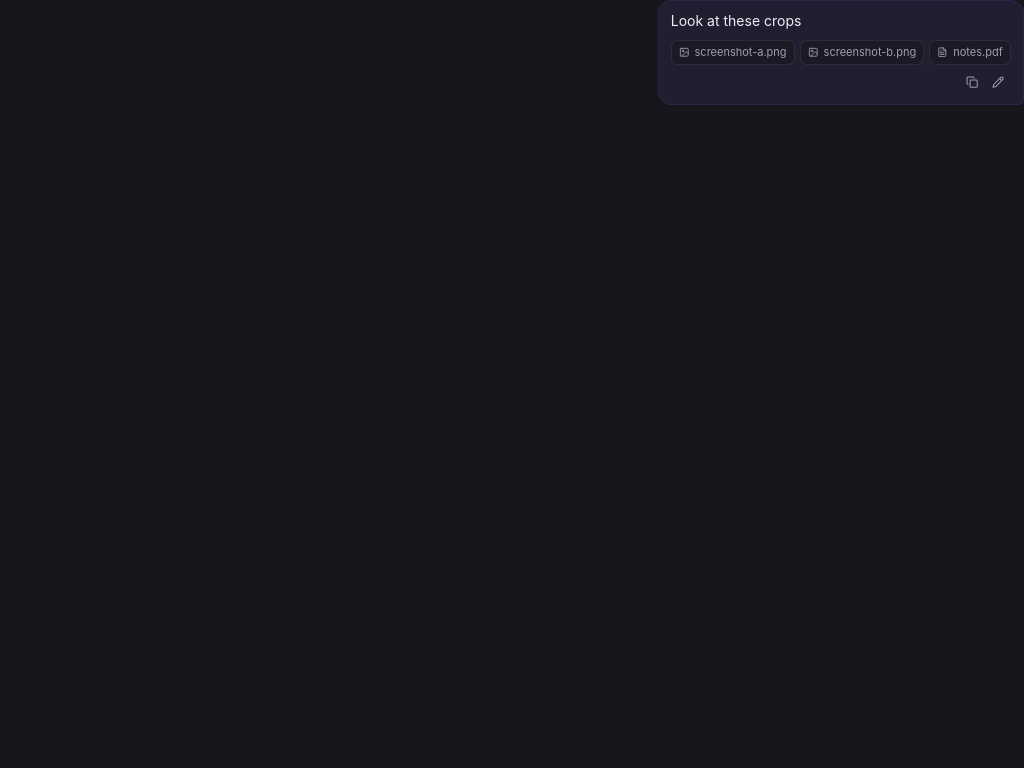
Test: ChatMessage copy actions › opens a lightbox preview when a history image chip is clicked
Expected: the text "screenshot-a.png" is shown, [694,44,787,60]
Click the button titled "screenshot-a.png". click: {"x": 733, "y": 52}
box: [671,40,795,65]
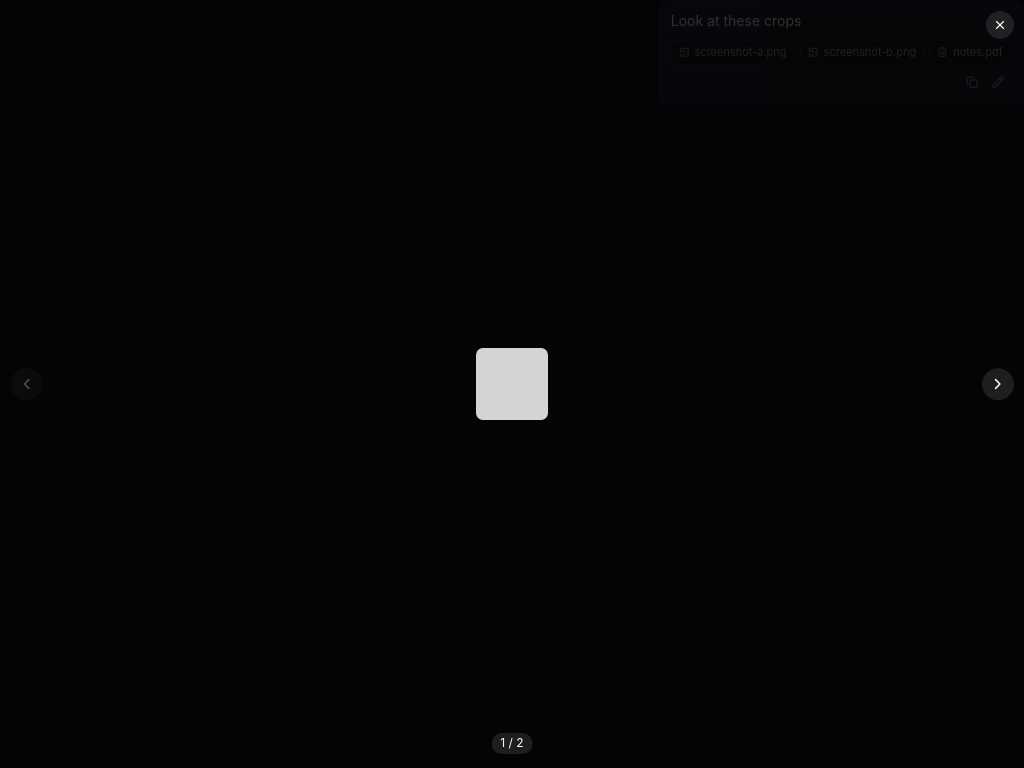
Now the text with test id "gallery-counter" reads "1 / 2", box [500,735,524,750]
Click the button with test id "gallery-next". click: {"x": 998, "y": 384}
box: [982,368,1014,400]
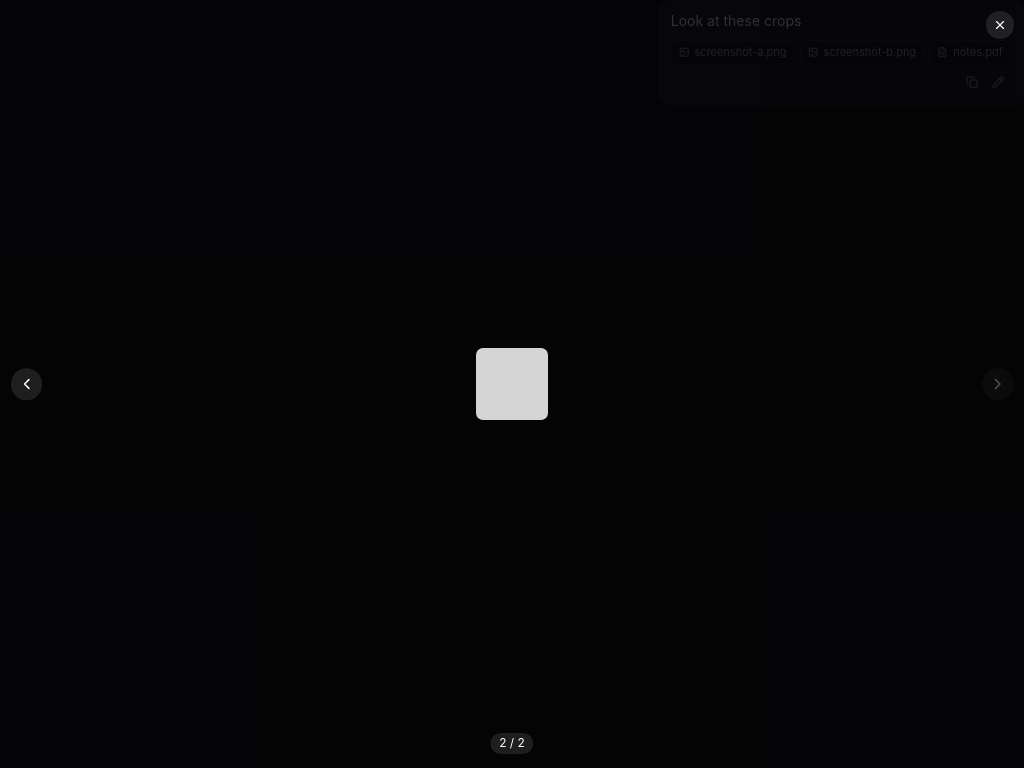
Now the text with test id "gallery-counter" reads "2 / 2", box [499,735,525,750]
Now the button with test id "gallery-next" is disabled, box [982,368,1014,400]
Click the button with test id "gallery-prev". click: {"x": 26, "y": 384}
box: [10,368,42,400]
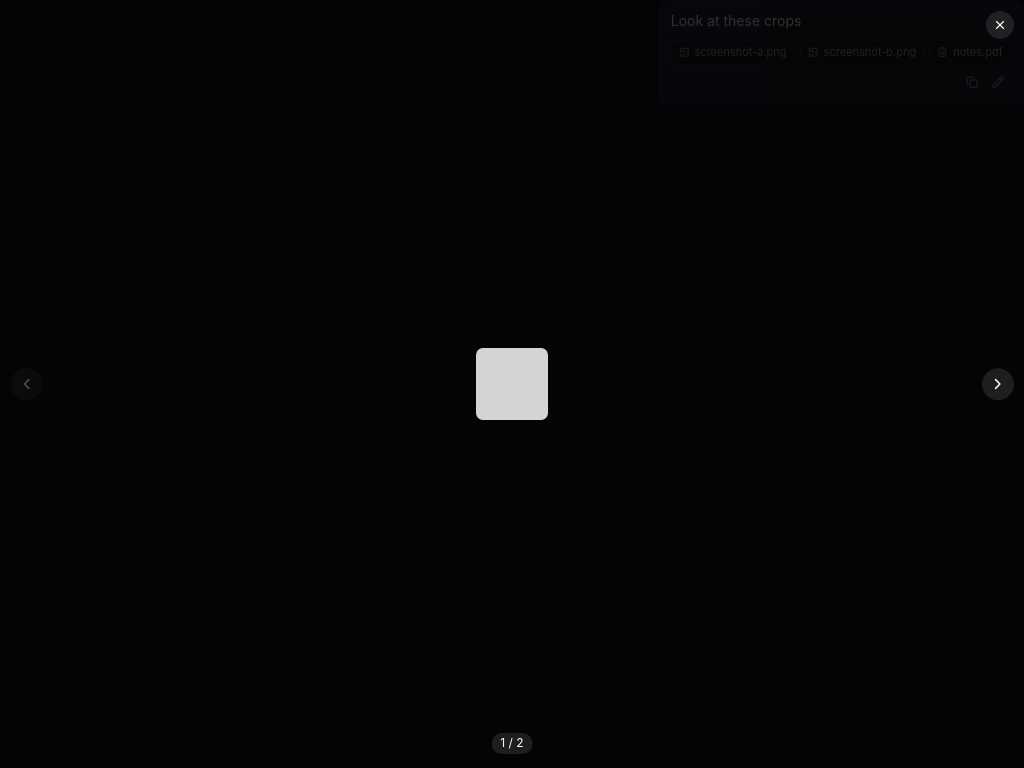
Now the text with test id "gallery-counter" reads "1 / 2", box [500,735,524,750]
Now the button with test id "gallery-prev" is disabled, box [10,368,42,400]
